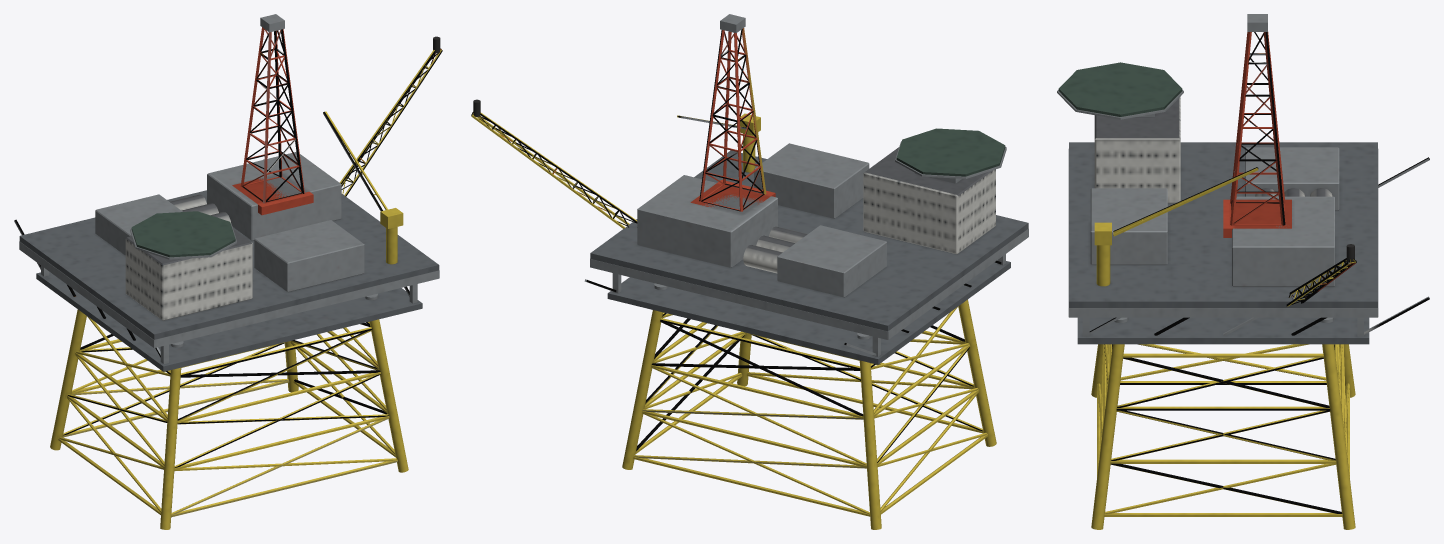
File: oil-platform.fbx
The picture shows the model from 3 angles, left to right: view 1: azimuth 30°, elevation 25°; view 2: azimuth 150°, elevation 25°; view 3: azimuth 270°, elevation 25°; orthographic projection. The views are drawn at different scales.
Parts seen in each view (by area): view 1: oil-platform; view 2: oil-platform; view 3: oil-platform.
Boxes of the visible parts, x1=… form: oil-platform: x1=14, y1=14, x2=442, y2=529; oil-platform: x1=471, y1=14, x2=1028, y2=529; oil-platform: x1=1057, y1=14, x2=1429, y2=529.
Size of the model in its own units: 8879 by 8585 by 6086.
1 material, 1 textured.
